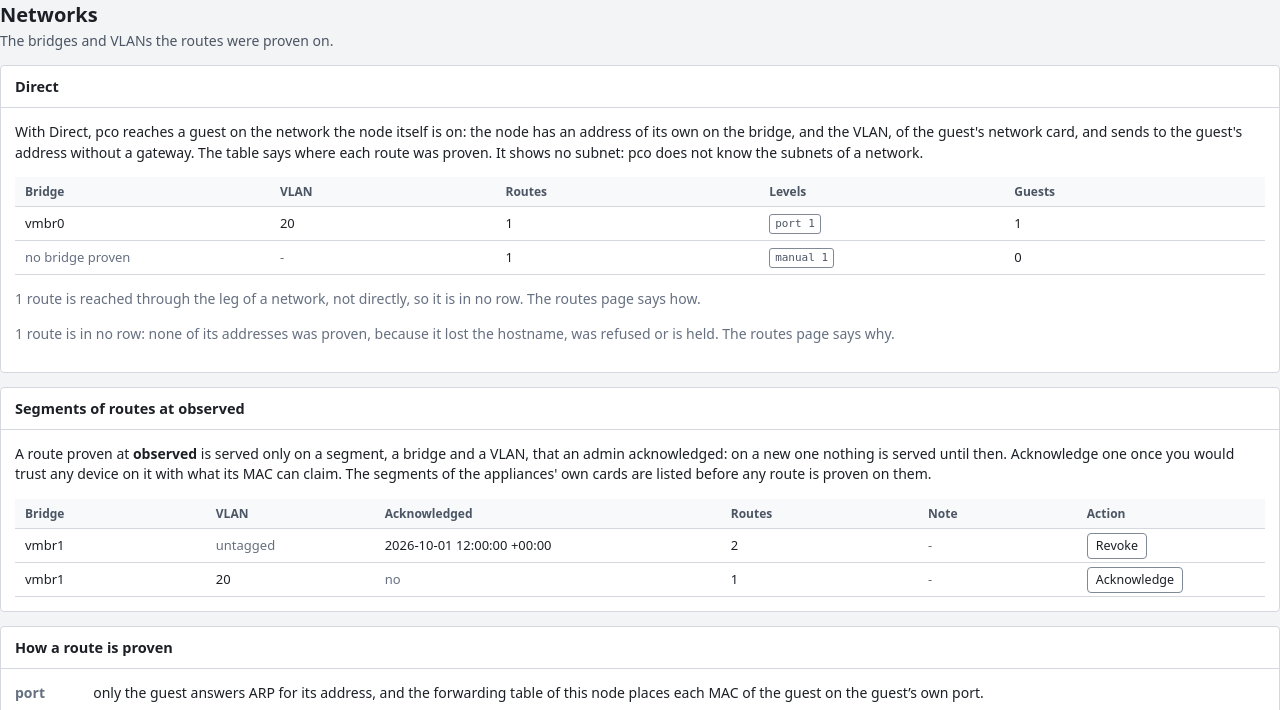
the Direct table › the row without a bridge says what is in it, and has no guest for a manual route
Click the text "no bridge proven": (78, 258) [25,248,130,266]
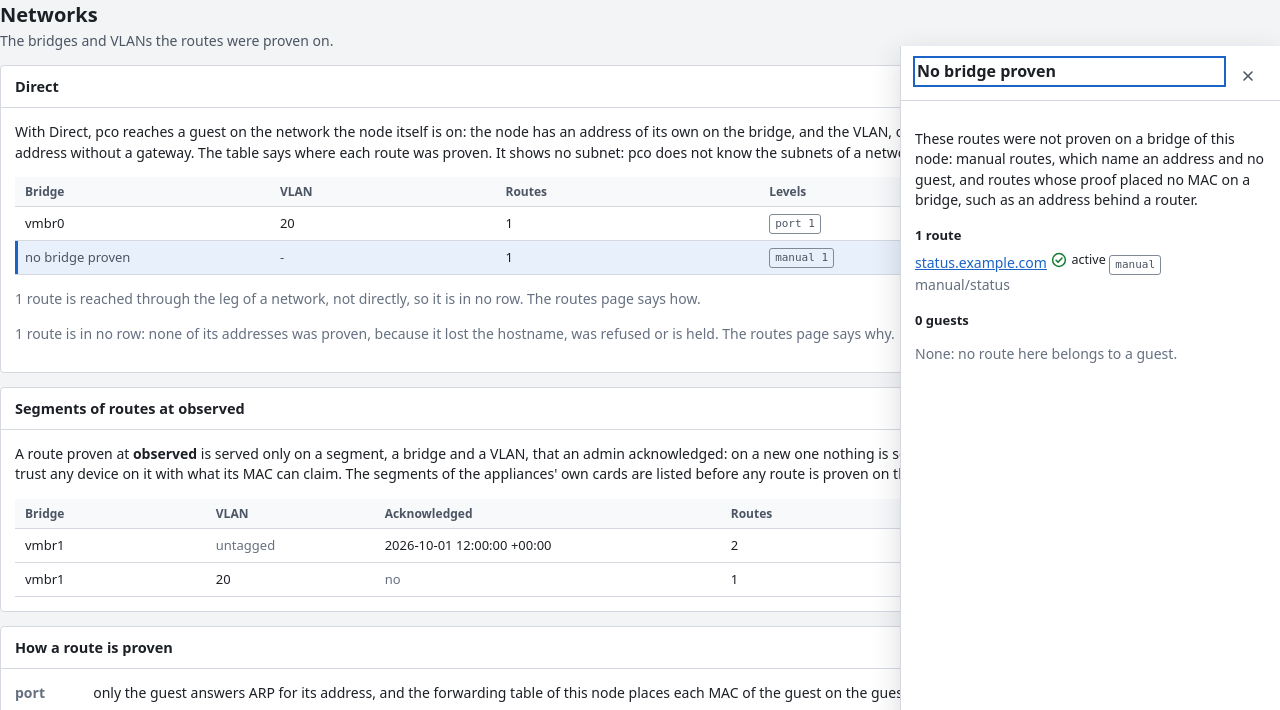
Result: the heading "No bridge proven" is shown at [917,60,1056,82]
Result: the text "manual routes, which name an address and no guest" is shown at [915,129,1264,209]
Result: the text "None: no route here belongs to a guest." is shown at [915,344,1177,363]
